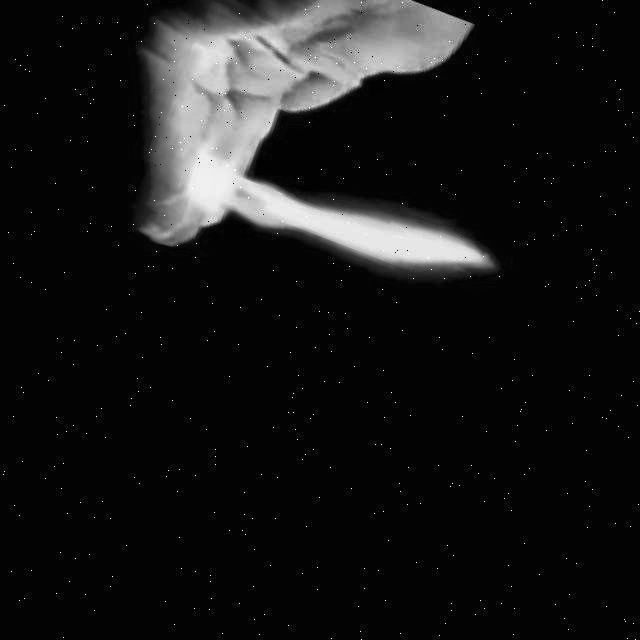Fire: (162, 114, 517, 333)
